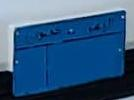city: (15, 46, 47, 94)
number: (47, 32, 125, 88)
text: (16, 11, 124, 50)
